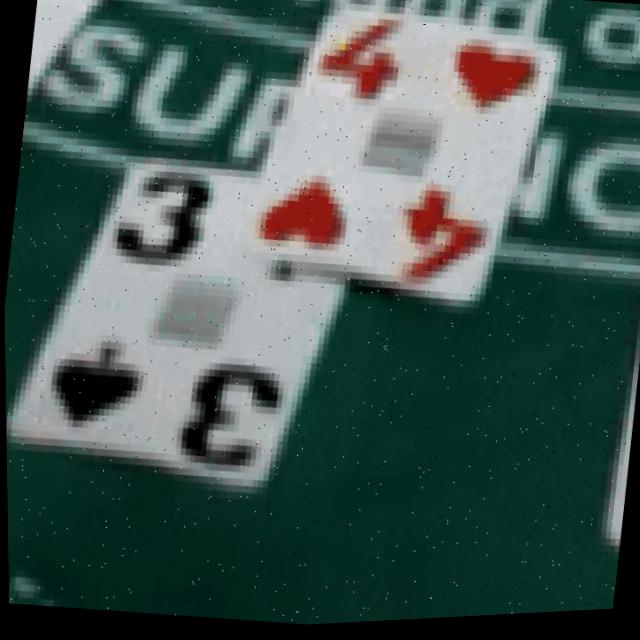Card-3: (5, 160, 346, 489)
Card-4: (235, 5, 561, 308)
